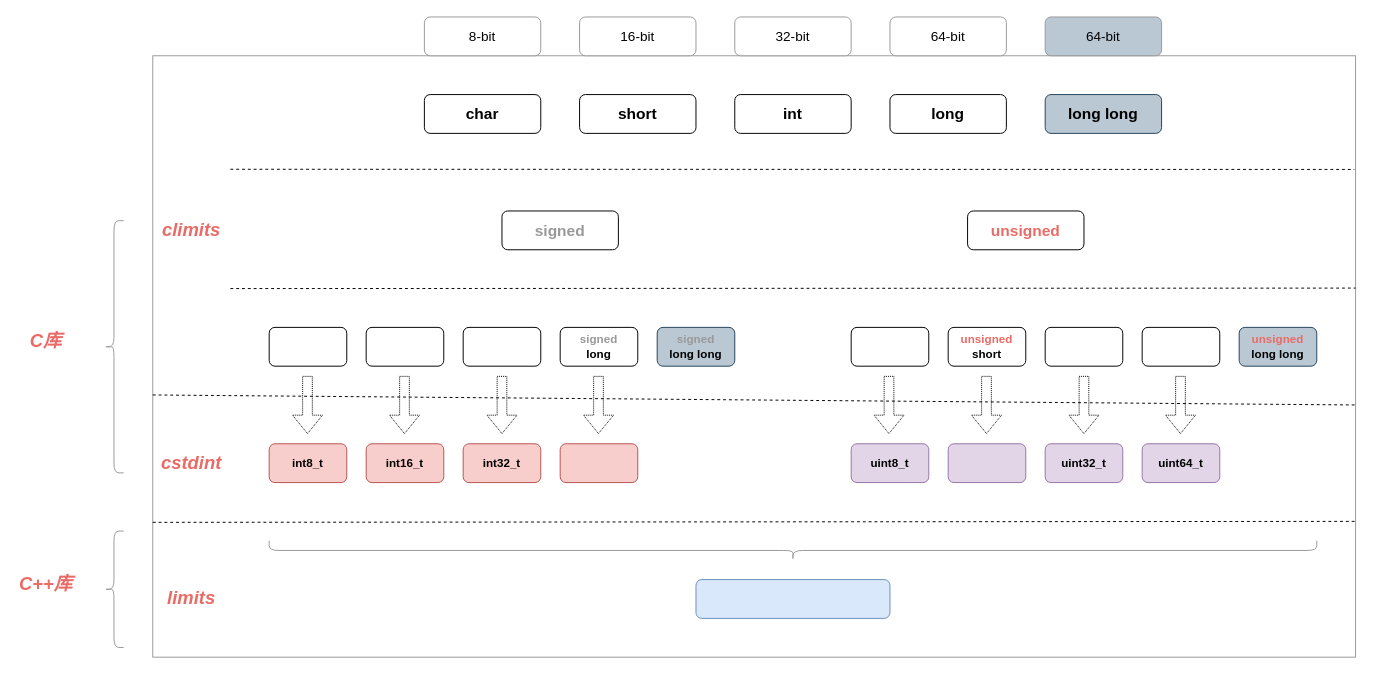
This 1374x674 diagram has some shape labels left out. The centre of each missing label's shape, as x and y in pixels:
"int64_t" belongs at pixel 598 463.
"signed char" belongs at pixel 307 346.
"signed int" belongs at pixel 501 346.
"signed short" belongs at pixel 404 346.
"std::numeric_limits<T>" belongs at pixel 792 598.
"uint16_t" belongs at pixel 986 463.
"unsigned char" belongs at pixel 889 346.
"unsigned int" belongs at pixel 1083 346.
"unsigned long" belongs at pixel 1180 346.
